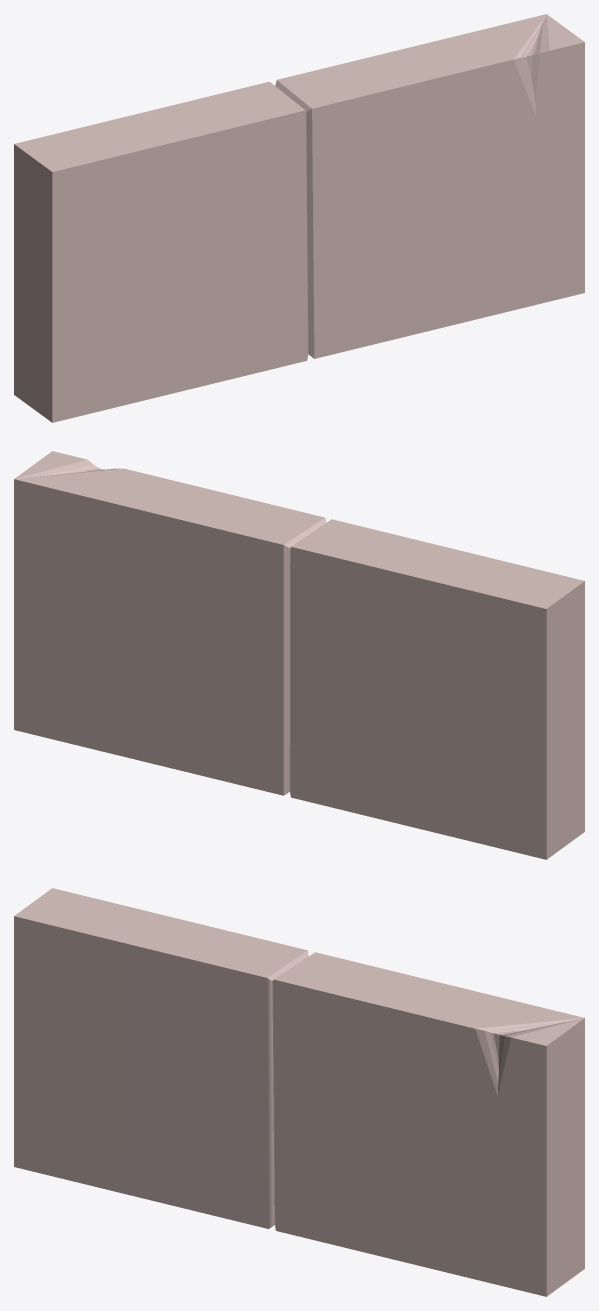
The model's file is ShoddyConcreteWall_Model.fbx.
The picture shows the model from 3 angles, top to bottom: view 1: azimuth 30°, elevation 25°; view 2: azimuth 150°, elevation 25°; view 3: azimuth 330°, elevation 25°; orthographic projection.
Visible parts, largest first — view 1: pCube1; view 2: pCube1; view 3: pCube1.
Part boxes in pixels (left/top/right/bottom): pCube1: left=14, top=14, right=584, bottom=422; pCube1: left=14, top=451, right=584, bottom=859; pCube1: left=14, top=888, right=584, bottom=1296.
Size of the model in its own units: 400 by 180 by 50.
1 material, 1 textured.
